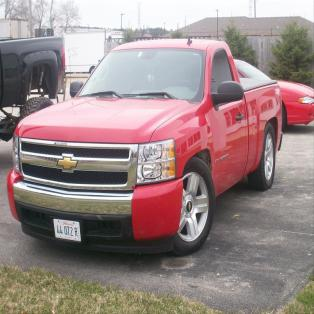Auto: (7, 36, 282, 257)
